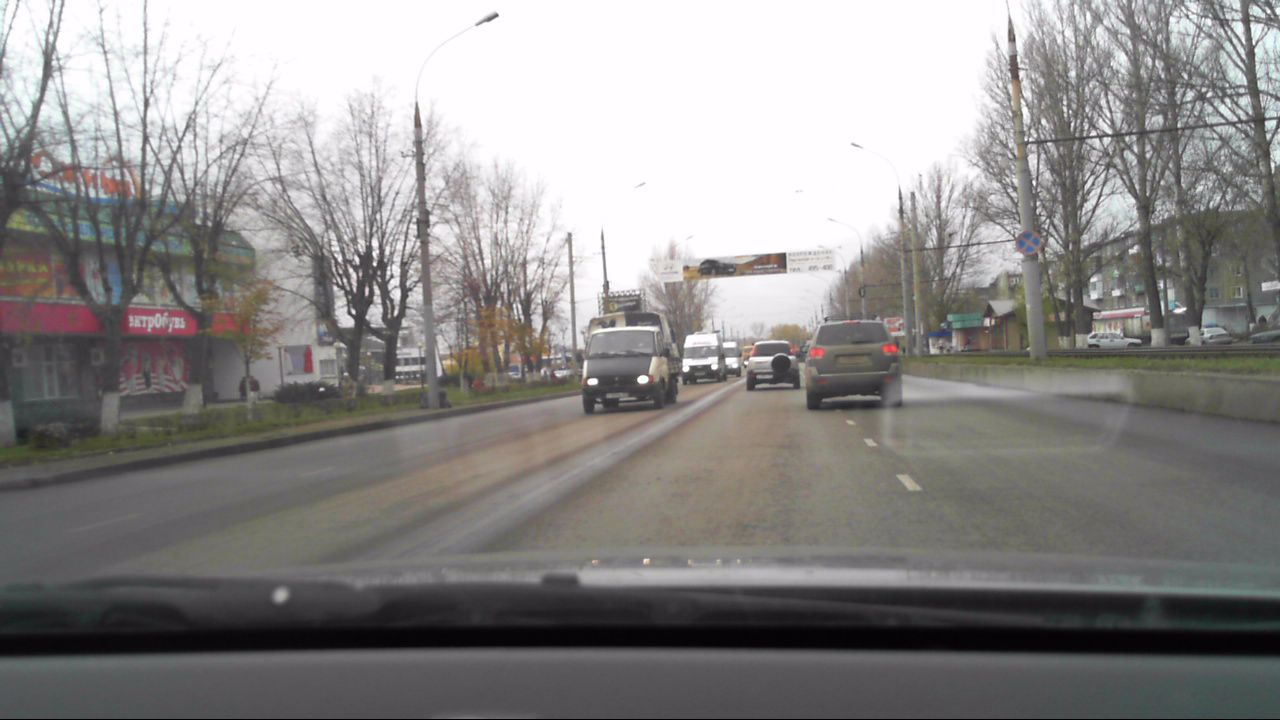No Parking: (1011, 231, 1041, 257)
